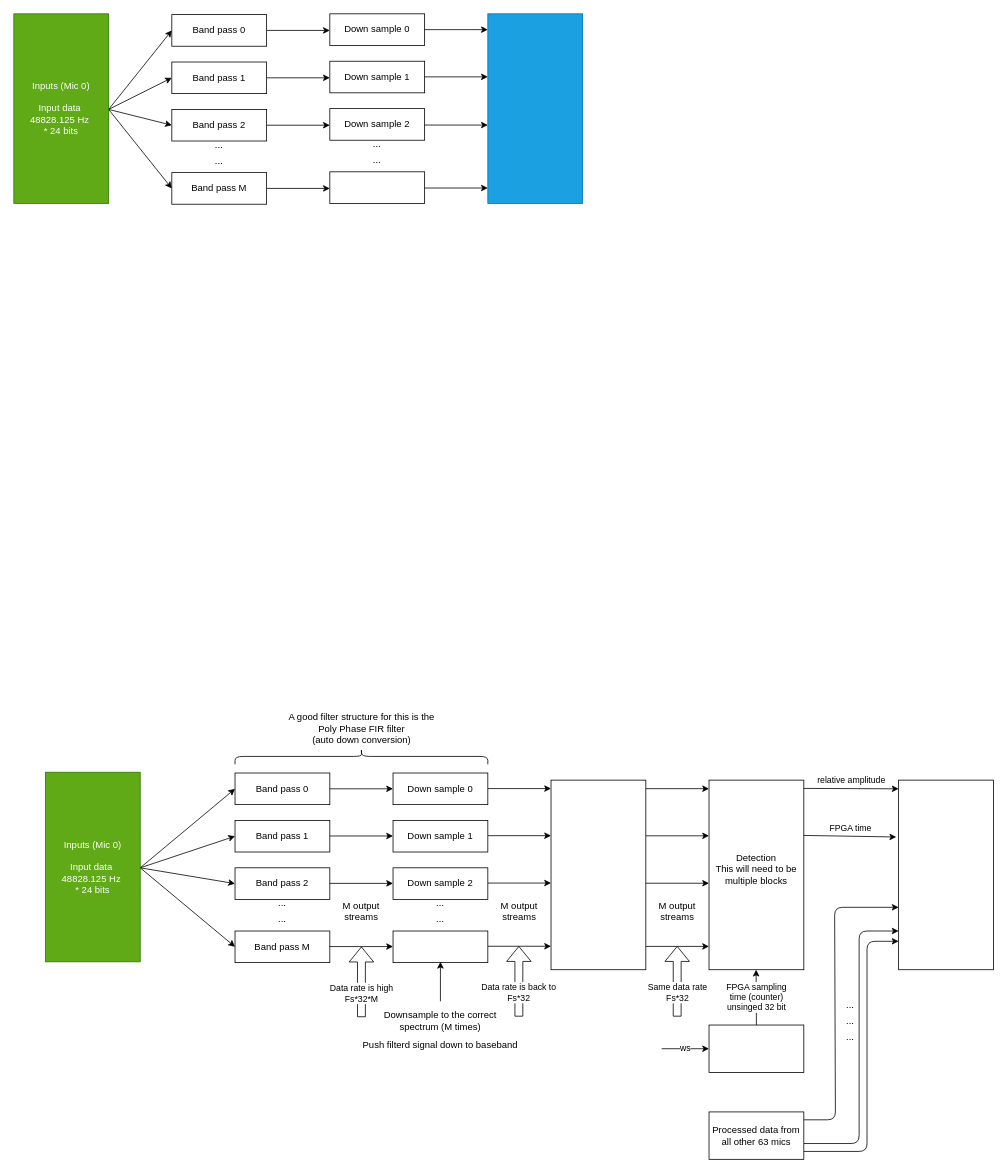
Image size: 1007x1173. Some labels were removed from this diagram. Here are the shapes that lost their labels. From the top down, the centre of each, then its label:
point (535, 108): Output (Mic 0) Output data 48828.125/M Hz * 32 bits * M parallel streams
point (377, 187): Down sample 3
point (598, 874): FFT
point (945, 874): some combining of data from all mics?
point (440, 946): Down sample M
point (756, 1048): unsinged 32-bit counter (24.4 h of runtime before wraparound)
